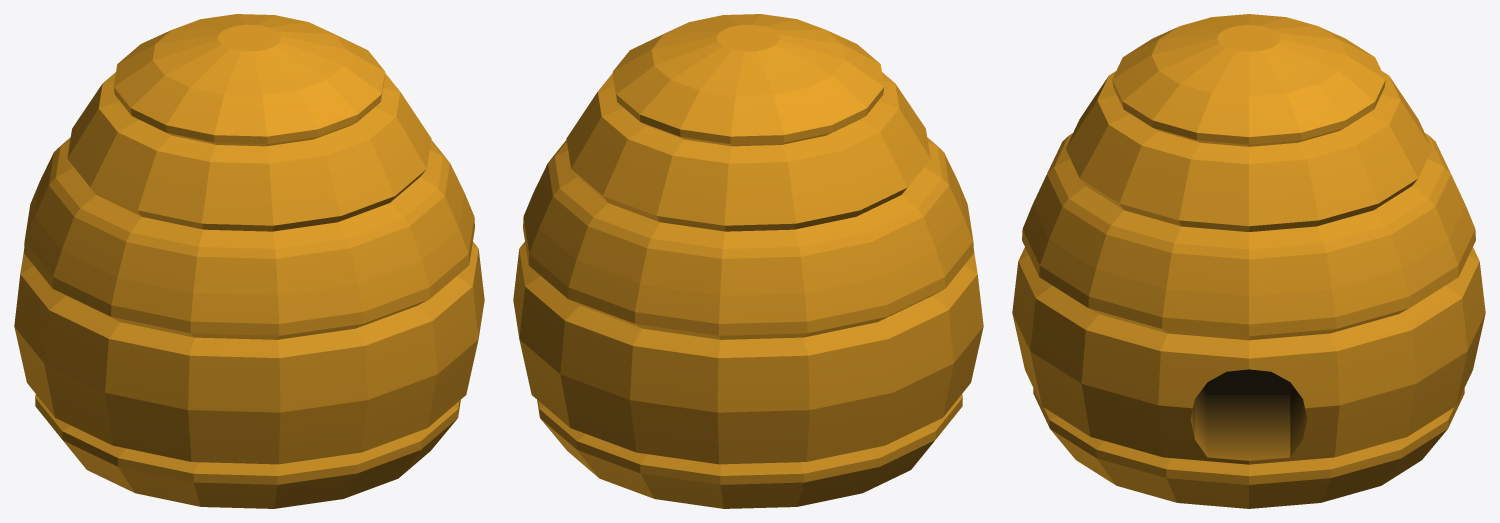
File: hive.glb
The picture shows the model from 3 angles, left to right: view 1: azimuth 30°, elevation 25°; view 2: azimuth 150°, elevation 25°; view 3: azimuth 270°, elevation 25°; orthographic projection.
Parts seen in each view (by area): view 1: Cylinder.018; view 2: Cylinder.018; view 3: Cylinder.018.
Part boxes in pixels (x1,y1,x2,y2): Cylinder.018: (14, 14, 484, 508); Cylinder.018: (513, 14, 983, 508); Cylinder.018: (1012, 14, 1485, 508).
Bounding box in the file's own units: 0.5912 × 0.5828 × 0.5942.
1 material, 1 textured.
